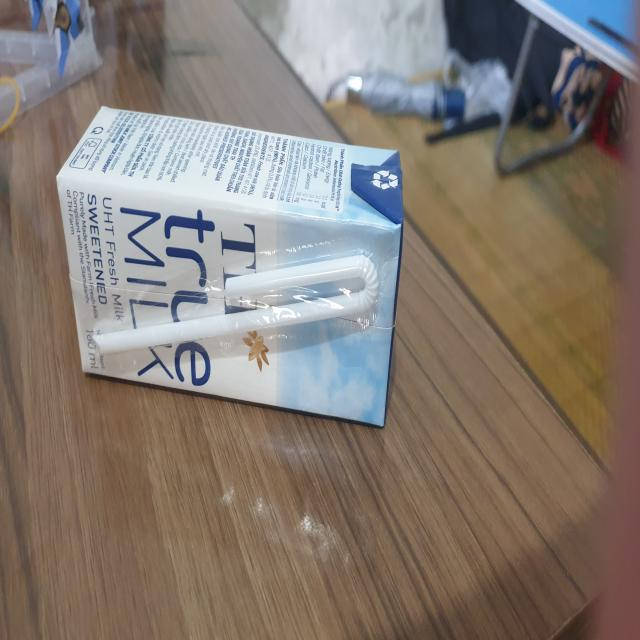TH: (57, 103, 403, 431)
